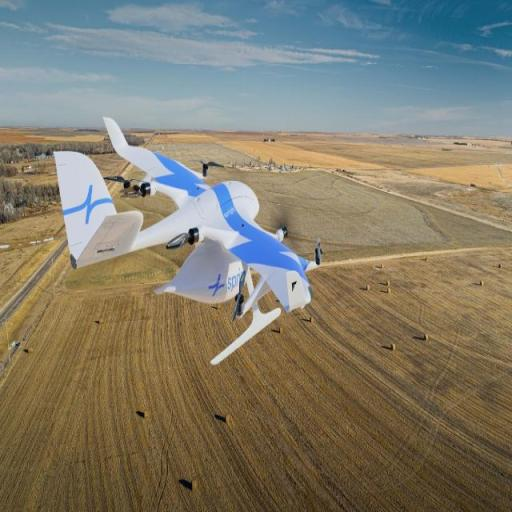uav: (46, 100, 329, 364)
